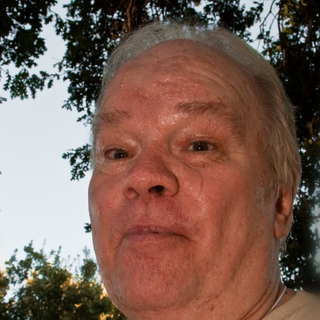eye: (179, 134, 224, 160), (99, 143, 133, 164)
